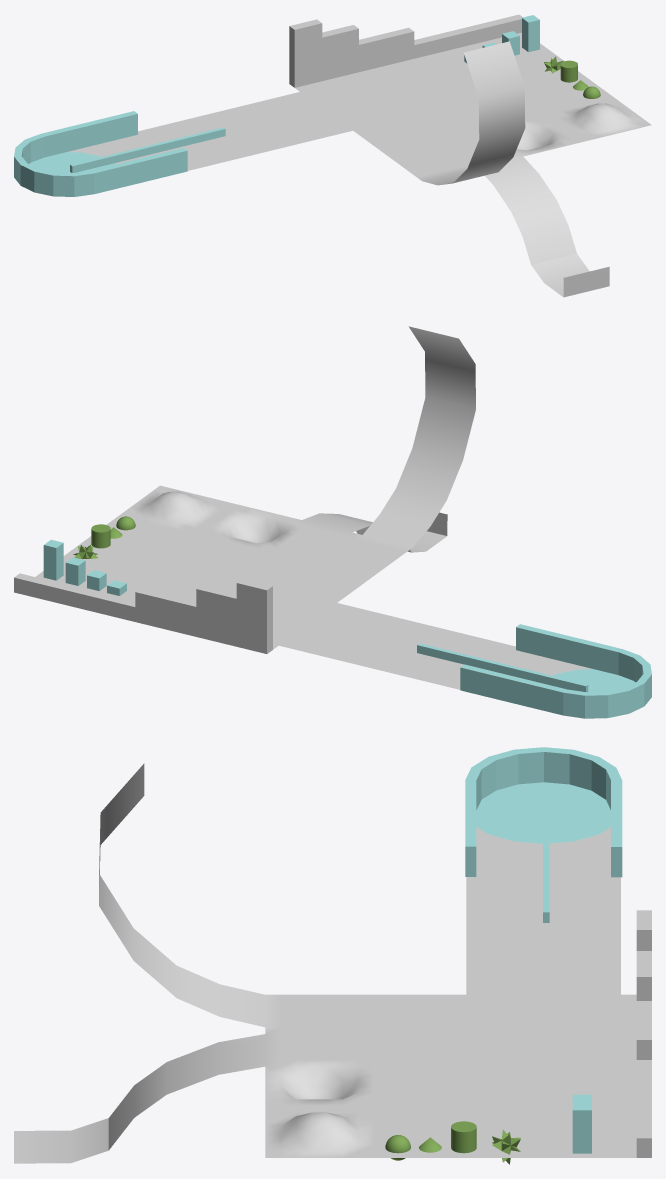
Rendered from Ground6.fbx.
3 views of the same model, one above another, from view 1: azimuth 30°, elevation 25°; view 2: azimuth 150°, elevation 25°; view 3: azimuth 270°, elevation 25° (orthographic). The views are drawn at different scales.
Visible parts, largest first — view 1: pPlane7; view 2: pPlane7; view 3: pPlane7.
Boxes of the visible parts, x1,y1,x2,y2 form: pPlane7: (14,14,651,297); pPlane7: (14,326,651,718); pPlane7: (14,747,651,1164).
Bounding box in the file's own units: 699 × 281 × 495.
